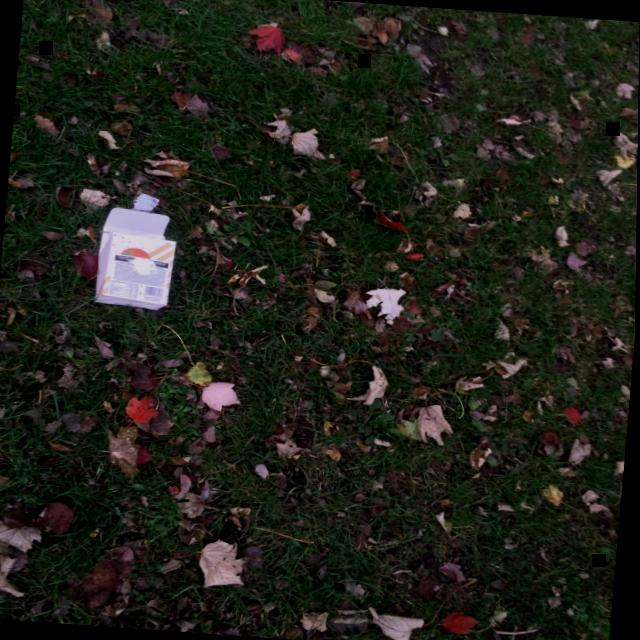Meal carton: (94, 207, 176, 309)
Plastic film: (130, 193, 159, 212)
